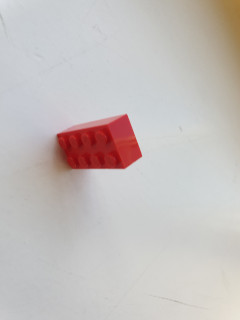2x4 red: (55, 113, 148, 172)
